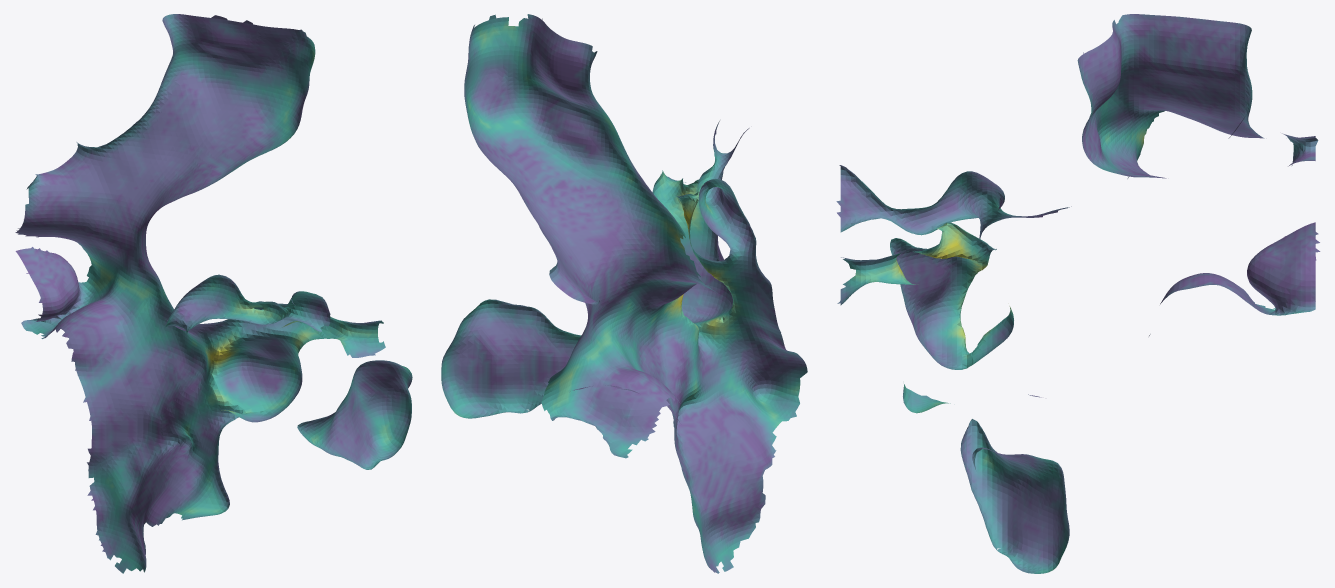
Rendered from crop1143_gap.glb.
3 renders of one model, left to right at view 1: azimuth 30°, elevation 25°; view 2: azimuth 150°, elevation 25°; view 3: azimuth 270°, elevation 25°, orthographic. The views are drawn at different scales.
Parts seen in each view (by area): view 1: world; view 2: world; view 3: world.
Part boxes in pixels (<box>): world: <box>15,14,412,573</box>; world: <box>441,14,807,573</box>; world: <box>836,14,1320,573</box>.
Bounding box in the file's own units: 1204 × 1940 × 1534.
